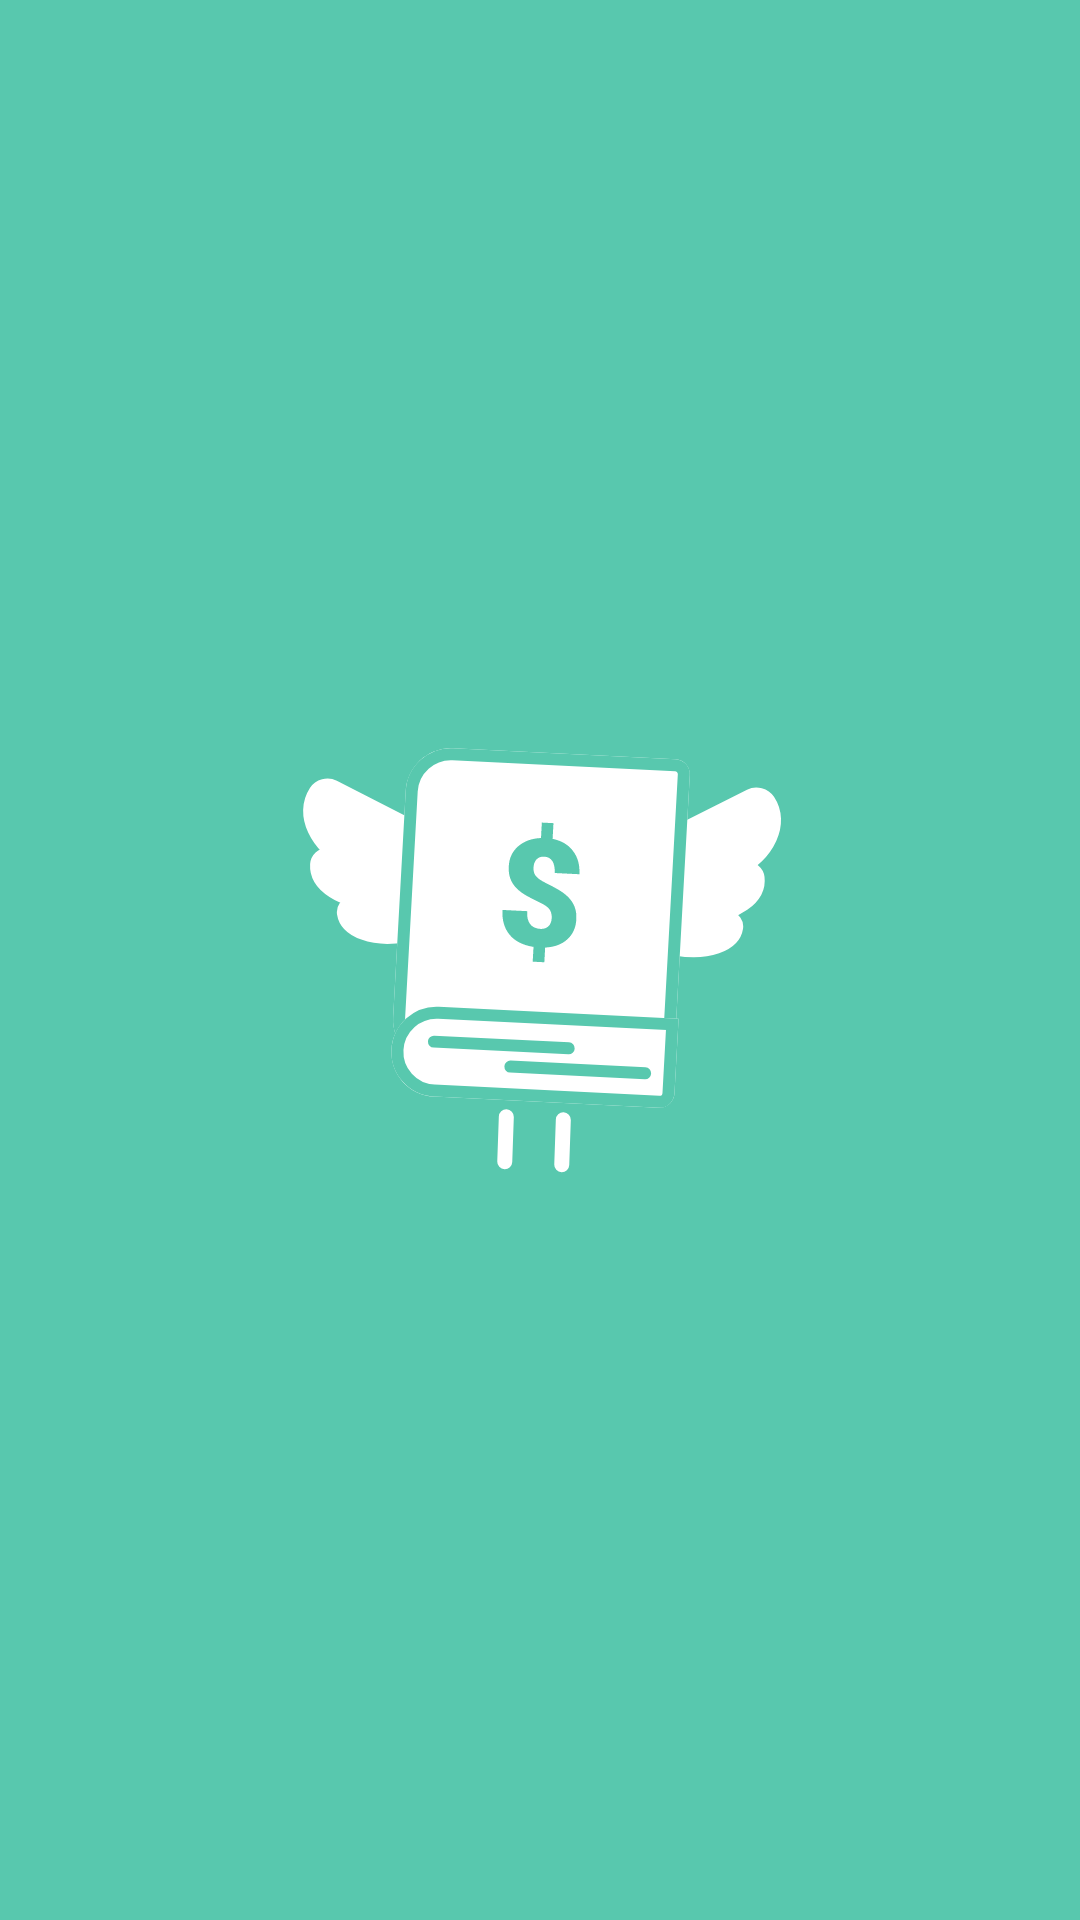

Where to tap for icons on this 1080px×1920px app screen, as (x=x, y=y):
left wing: (x=356, y=860)
